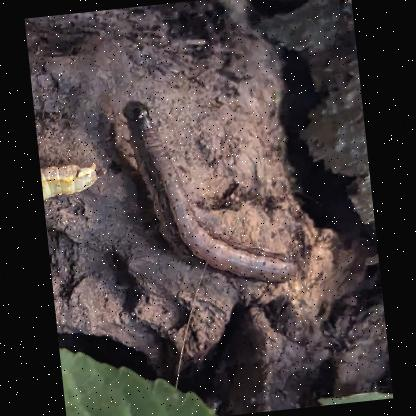Fall Armyworm Larvae: (115, 82, 302, 304), (38, 154, 111, 208)
